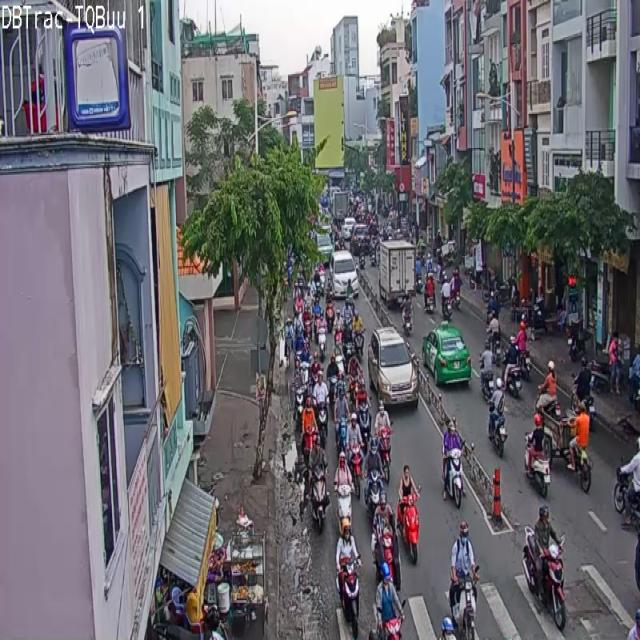car: (522, 506, 565, 629), (448, 522, 478, 639), (337, 521, 359, 639), (444, 451, 463, 508), (312, 375, 328, 439), (311, 475, 329, 530), (365, 469, 384, 515), (404, 505, 418, 563), (338, 485, 350, 518)
traffic-light: (368, 327, 417, 405), (423, 320, 470, 385), (326, 252, 358, 297)
